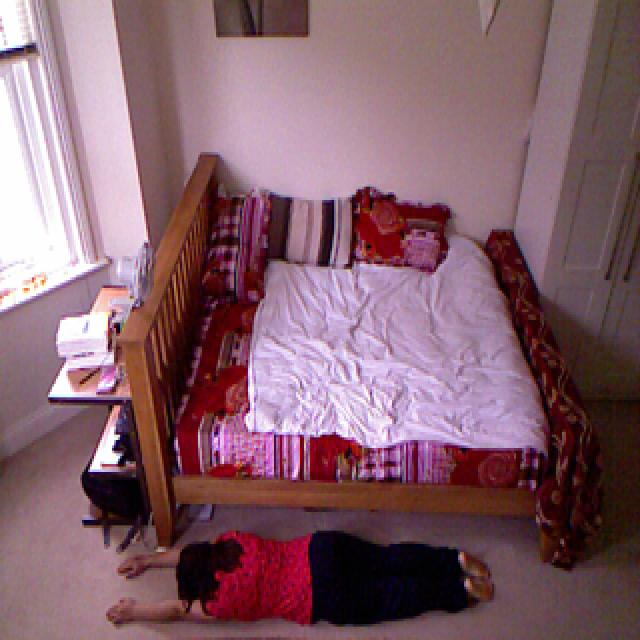lying: (101, 534, 507, 631)
